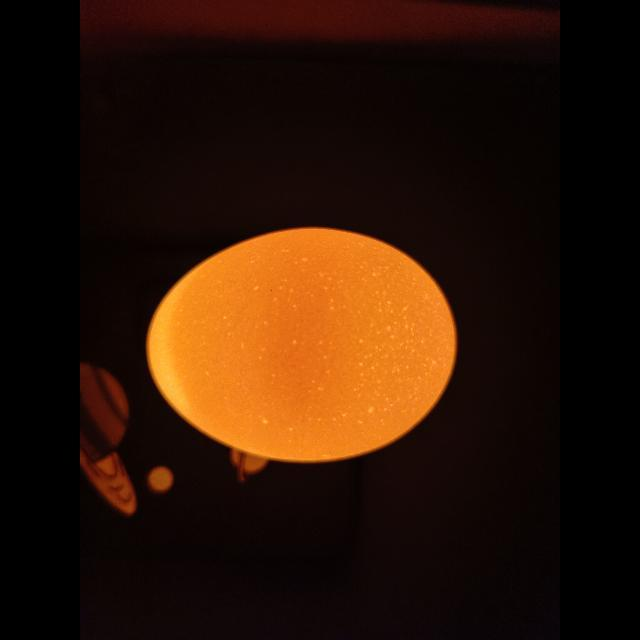AA - Premium: (146, 228, 456, 463)
